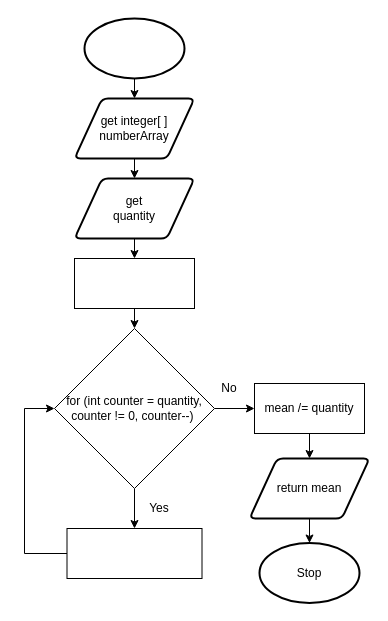
Some shapes in this 388 by 621 pixel diagram are drawn without their labels. The shapes that lost their labels are listed below. From the top down, each one's centre as x and y in pixels, then its label:
At pixel 134 48: "Start".
At pixel 134 283: "mean = 0".
At pixel 134 553: "mean += numberArray[counter]".
